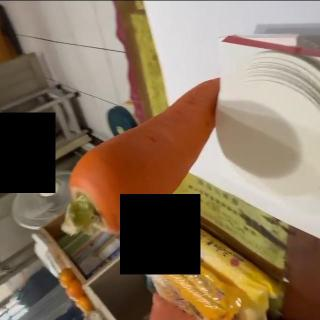carrot: (62, 78, 221, 236)
